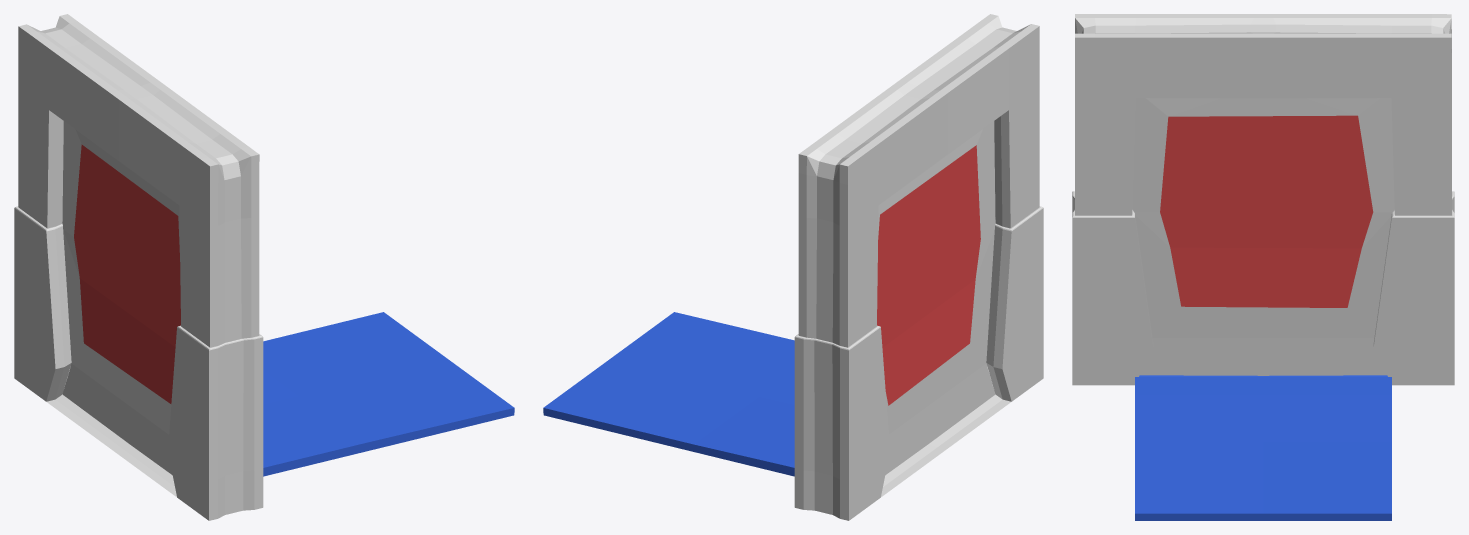
Rendered from Security_Door 3.fbx.
3 views of the same model, side by side, from view 1: azimuth 30°, elevation 25°; view 2: azimuth 150°, elevation 25°; view 3: azimuth 270°, elevation 25° (orthographic).
Visible parts, largest first — view 1: Frame, Door; view 2: Frame, Door; view 3: Frame, Door.
Part boxes in pixels (x1=…): Frame: x1=14, y1=14, x2=514, y2=520; Door: x1=62, y1=121, x2=180, y2=474; Frame: x1=543, y1=14, x2=1043, y2=520; Door: x1=877, y1=121, x2=995, y2=474; Frame: x1=1072, y1=14, x2=1454, y2=520; Door: x1=1132, y1=98, x2=1394, y2=375.
Bounding box in the file's own units: 200 × 200 × 200.
